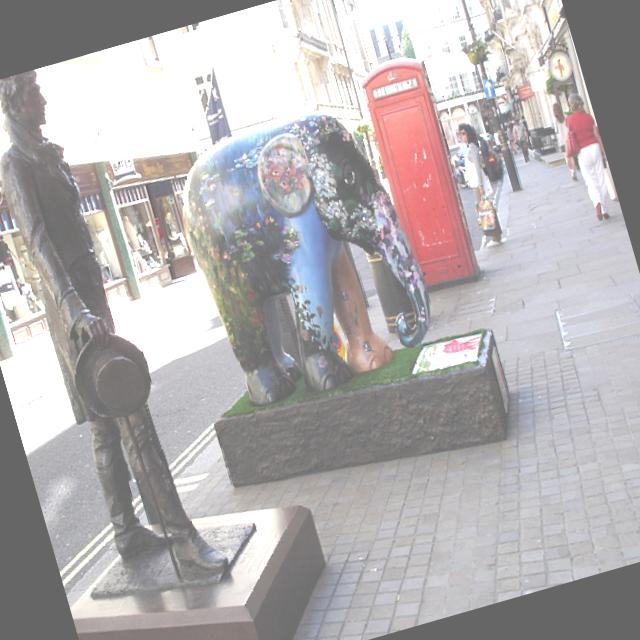Vehicle: (455, 135, 504, 187)
